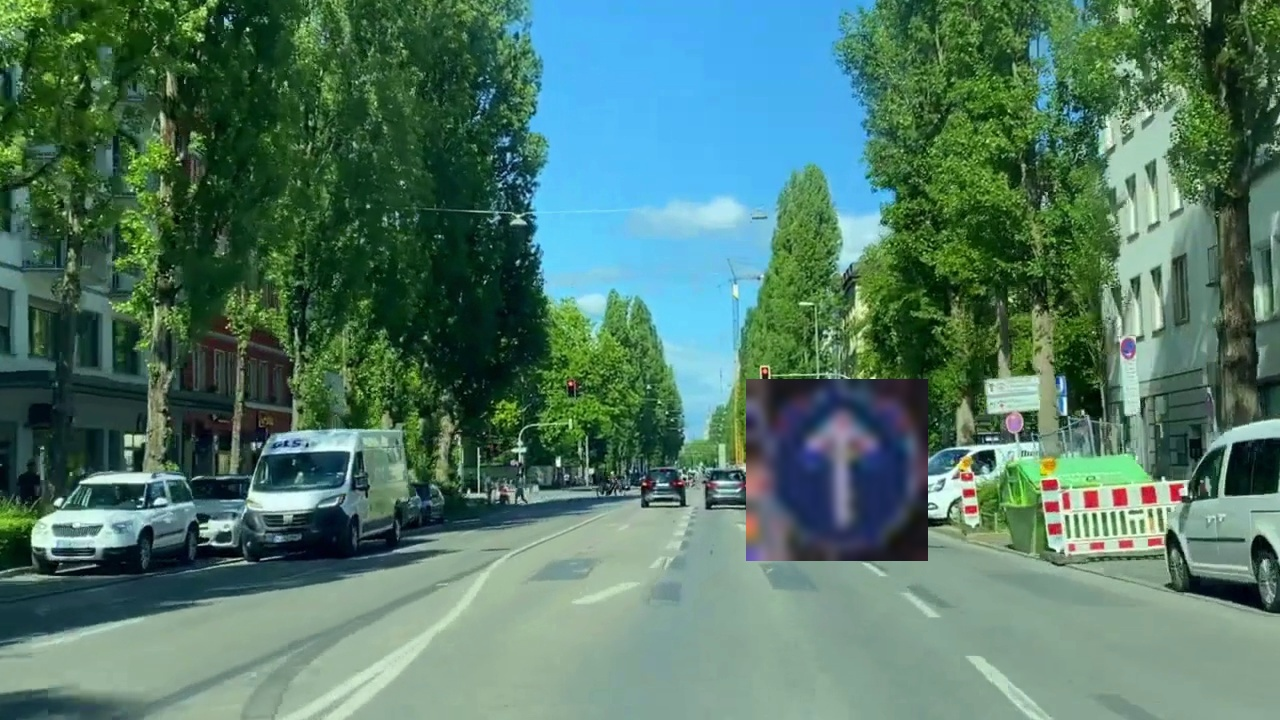Ahead only: (746, 379, 928, 561)
